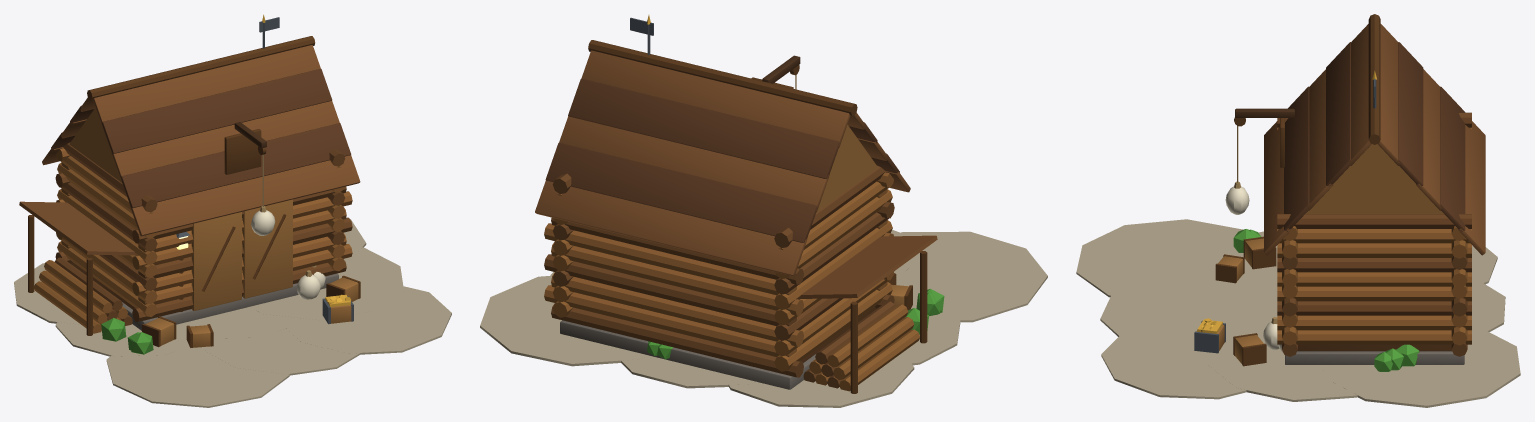
The model's file is magazyn_poz10.glb.
3 views of the same model, side by side, from view 1: azimuth 30°, elevation 25°; view 2: azimuth 150°, elevation 25°; view 3: azimuth 270°, elevation 25° (orthographic). The views are drawn at different scales.
Visible parts, largest first — view 1: magazyn_poz10; view 2: magazyn_poz10; view 3: magazyn_poz10.
Boxes of the visible parts, box(x1,y1,x2,y2) form: magazyn_poz10: box(14, 14, 451, 407); magazyn_poz10: box(480, 15, 1047, 407); magazyn_poz10: box(1076, 14, 1520, 407).
Bounding box in the file's own units: 8.86 × 6.26 × 8.91.
